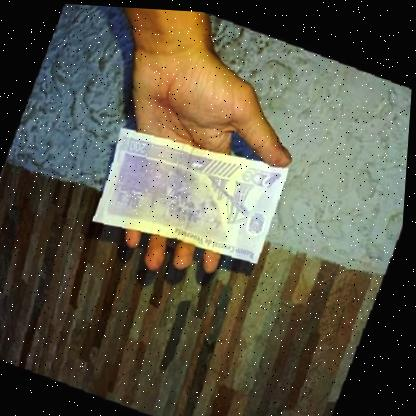two_hundred-back-vef: (91, 112, 294, 271)
